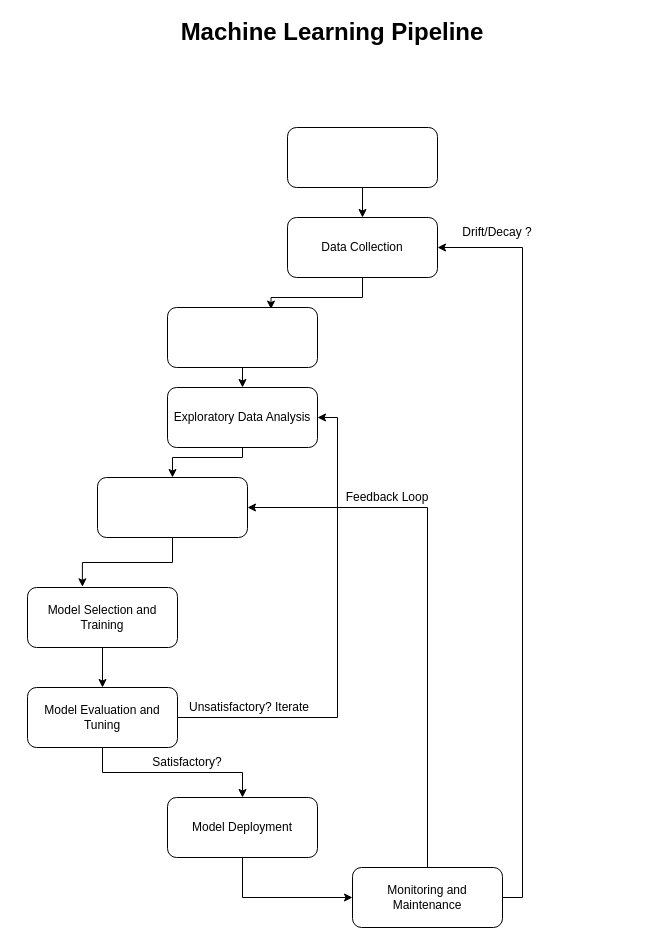
Some shapes in this 664 by 945 pixel diagram are drawn without their labels. Each missing label, with the box of its shape:
Data Preprocessing and Cleaning: (166, 306, 318, 368)
Feature Engineering: (96, 476, 248, 538)
Problem Definition: (286, 126, 438, 188)
